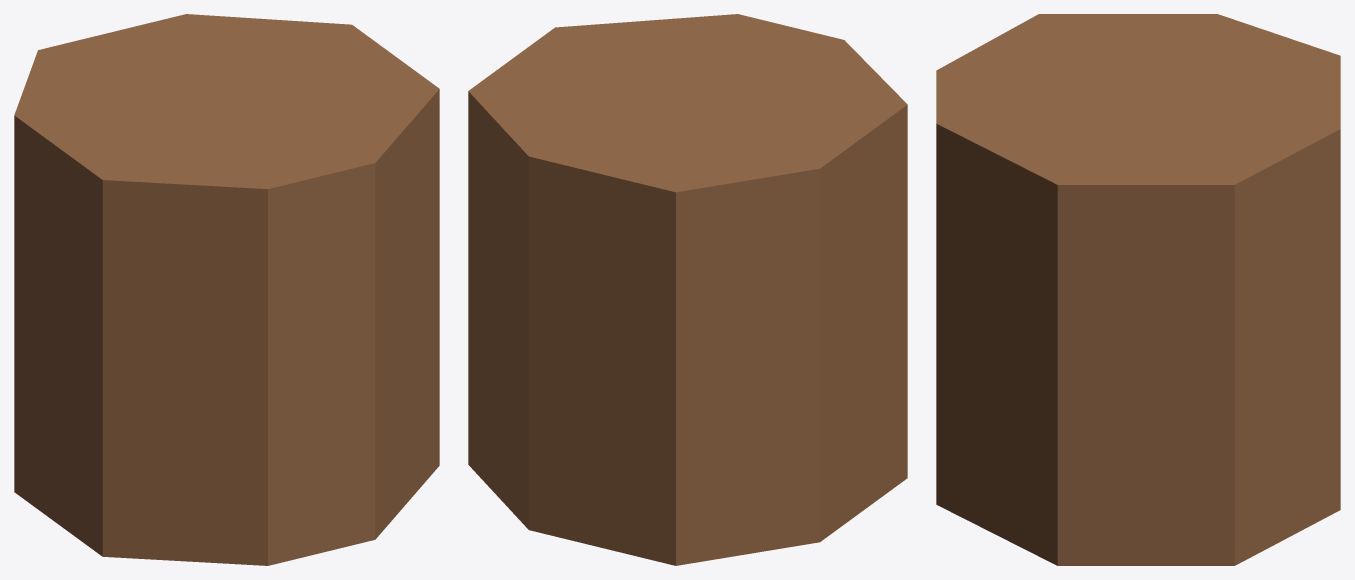
The model's file is barrel.glb.
3 views of the same model, side by side, from view 1: azimuth 30°, elevation 25°; view 2: azimuth 150°, elevation 25°; view 3: azimuth 270°, elevation 25° (orthographic).
Size of the model in its own units: 4 by 4.16 by 4.
